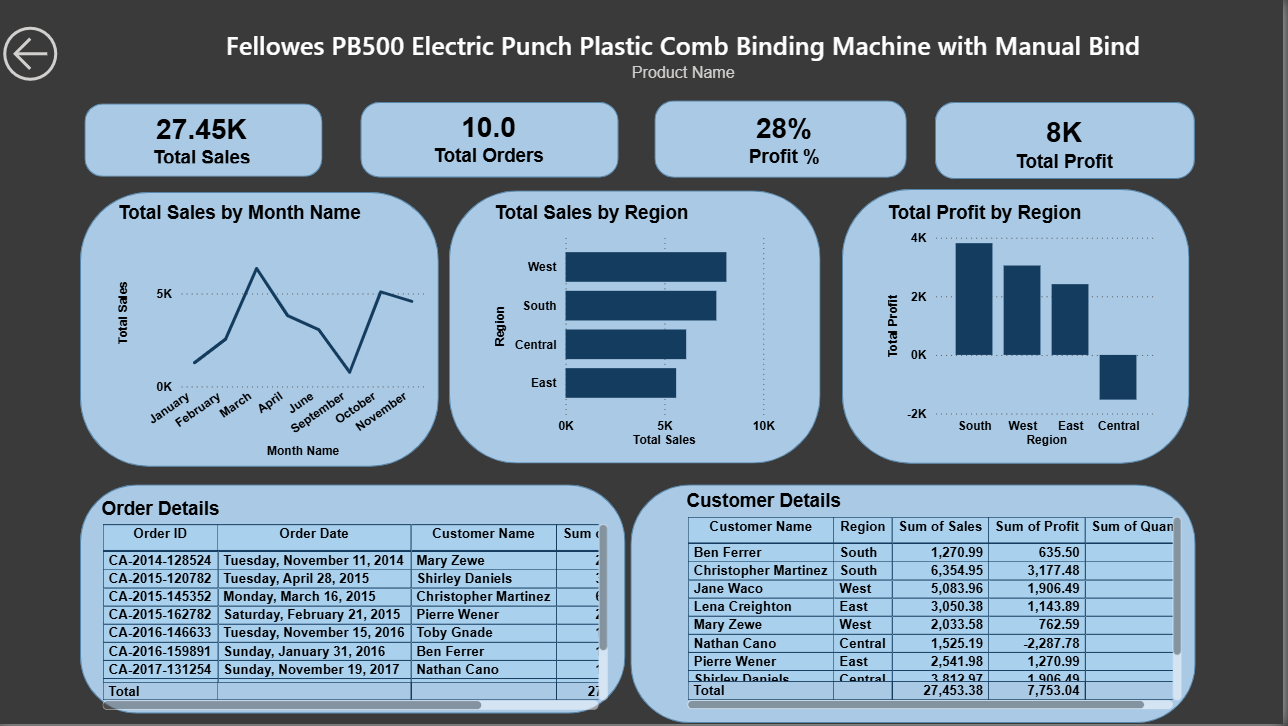

This screenshot's page, from the dashboard's own definition file:
{"tool":"powerbi","page":{"name":"Product Drill Through","canvas":[1280,720],"ordinal":1},"visuals":[{"type":"group","id":"g1","title":"Group 1","box":[88.4,99.5,1103.7,77.4],"z":0},{"type":"shape","box":[88.4,102.6,236.6,72.9],"z":0,"group":"g1"},{"type":"shape","box":[83.7,191.1,356.8,273.2],"z":0,"group":"g2"},{"type":"shape","box":[83.7,482.3,542.4,227.9],"z":0,"group":"g3"},{"type":"cardVisual","fields":{"Data":["Min(Sample - Superstore.Product Name)"]},"box":[176.8,9.5,1010.5,88.4],"z":1000},{"type":"shape","box":[363.3,100.4,256.6,75],"z":1000,"group":"g1"},{"type":"shape","box":[451,189.5,369.5,271.6],"z":1000,"group":"g2"},{"type":"shape","box":[630.6,482.3,562,237.3],"z":1000,"group":"g3"},{"type":"actionButton","box":[0,19.7,98.4,68.1],"z":2000},{"type":"shape","box":[655.5,99.5,250.8,76.8],"z":2000,"group":"g1"},{"type":"shape","box":[841.1,187.9,345.6,273.2],"z":2000,"group":"g2"},{"type":"cardVisual","fields":{"Data":["Sample - Superstore.Total Sales"]},"box":[108.9,97.9,189.5,82.1],"z":3000},{"type":"shape","box":[933.7,101.6,258.4,76.6],"z":3000,"group":"g1"},{"type":"cardVisual","fields":{"Data":["Sample - Superstore.Total Orders"]},"box":[385.3,94.7,210,86.8],"z":4000},{"type":"cardVisual","fields":{"Data":["Sample - Superstore.Profit %"]},"box":[669.5,97.9,229,82.1],"z":5000},{"type":"cardVisual","fields":{"Data":["Sample - Superstore.Total Profit"]},"box":[947.4,99.5,230.5,88.4],"z":6000},{"type":"group","id":"g2","title":"Group 2","box":[83.7,187.9,1103.7,276.3],"z":7000},{"type":"lineChart","fields":{"Y":["Sample - Superstore.Total Sales"],"Category":["DateTable.Month Name"]},"box":[116.8,202.1,314.2,259],"z":8000},{"type":"clusteredBarChart","fields":{"Category":["Sample - Superstore.Region"],"Y":["Sample - Superstore.Total Sales"]},"box":[491.1,202.1,289,247.9],"z":9000},{"type":"clusteredColumnChart","fields":{"Y":["Sample - Superstore.Total Profit"],"Category":["Sample - Superstore.Region"]},"box":[881.1,202.1,277.9,247.9],"z":10000},{"type":"group","id":"g3","title":"Group 3","box":[83.7,482.3,1108.9,237.3],"z":11000},{"type":"tableEx","title":"Order Details","fields":{"Values":["Sample - Superstore.Order ID","Sample - Superstore.Order Date.Variation.Date Hierarchy.Year","Sample - Superstore.Customer Name","Sum(Sample - Superstore.Sales)","Sum(Sample - Superstore.Profit)"]},"box":[99.3,494.7,513.3,215.6],"z":12000},{"type":"tableEx","title":"Customer Details","fields":{"Values":["Sample - Superstore.Customer Name","Sample - Superstore.Region","Sum(Sample - Superstore.Sales)","Sum(Sample - Superstore.Profit)","Sum(Sample - Superstore.Quantity)"]},"box":[681,488.4,502.3,222.4],"z":13000}]}

Visuals, with their boxes in screenshot pixels (x1, y1, x2, y2), scaled from the page's 1280x720 canvas onto the 1288x726 screenshot:
"Group 1" group: BBox(89, 100, 1200, 178)
shape: BBox(89, 103, 327, 177)
shape: BBox(84, 193, 443, 468)
shape: BBox(84, 486, 630, 716)
cardVisual - Min(Sample - Superstore.Product Name): BBox(178, 10, 1195, 99)
shape: BBox(366, 101, 624, 177)
shape: BBox(454, 191, 826, 465)
shape: BBox(635, 486, 1200, 725)
actionButton: BBox(0, 20, 99, 89)
shape: BBox(660, 100, 912, 178)
shape: BBox(846, 189, 1194, 465)
cardVisual - Sample - Superstore.Total Sales: BBox(110, 99, 300, 182)
shape: BBox(940, 102, 1200, 180)
cardVisual - Sample - Superstore.Total Orders: BBox(388, 95, 599, 183)
cardVisual - Sample - Superstore.Profit %: BBox(674, 99, 904, 182)
cardVisual - Sample - Superstore.Total Profit: BBox(953, 100, 1185, 189)
"Group 2" group: BBox(84, 189, 1195, 468)
lineChart - Sample - Superstore.Total Sales x DateTable.Month Name: BBox(118, 204, 434, 465)
clusteredBarChart - Sample - Superstore.Region x Sample - Superstore.Total Sales: BBox(494, 204, 785, 454)
clusteredColumnChart - Sample - Superstore.Total Profit x Sample - Superstore.Region: BBox(887, 204, 1166, 454)
"Group 3" group: BBox(84, 486, 1200, 725)
"Order Details" tableEx: BBox(100, 499, 616, 716)
"Customer Details" tableEx: BBox(685, 492, 1191, 717)
